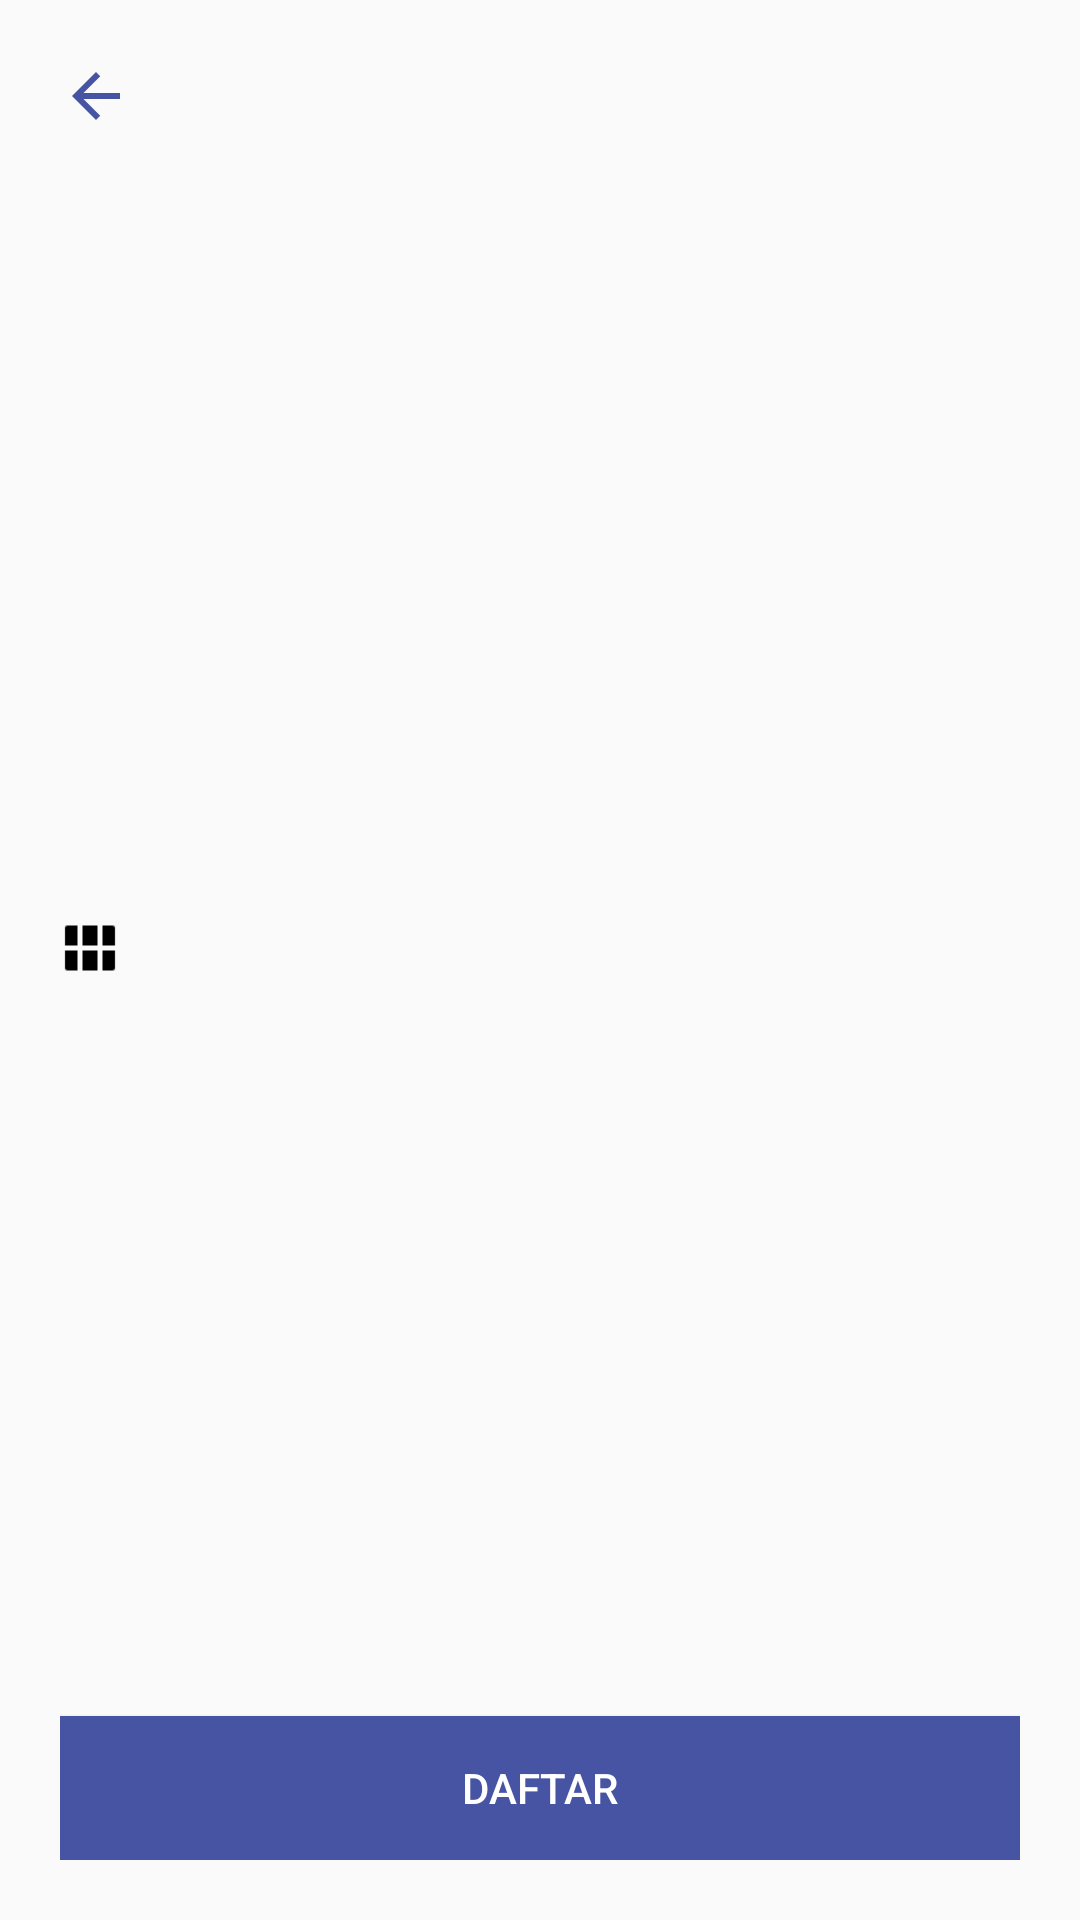

Icons on this 1080*1920 Android screen, each with its box as Rect(x1, y1, x2, y2):
back: Rect(72, 72, 120, 120)
modul: Rect(64, 925, 116, 971)
